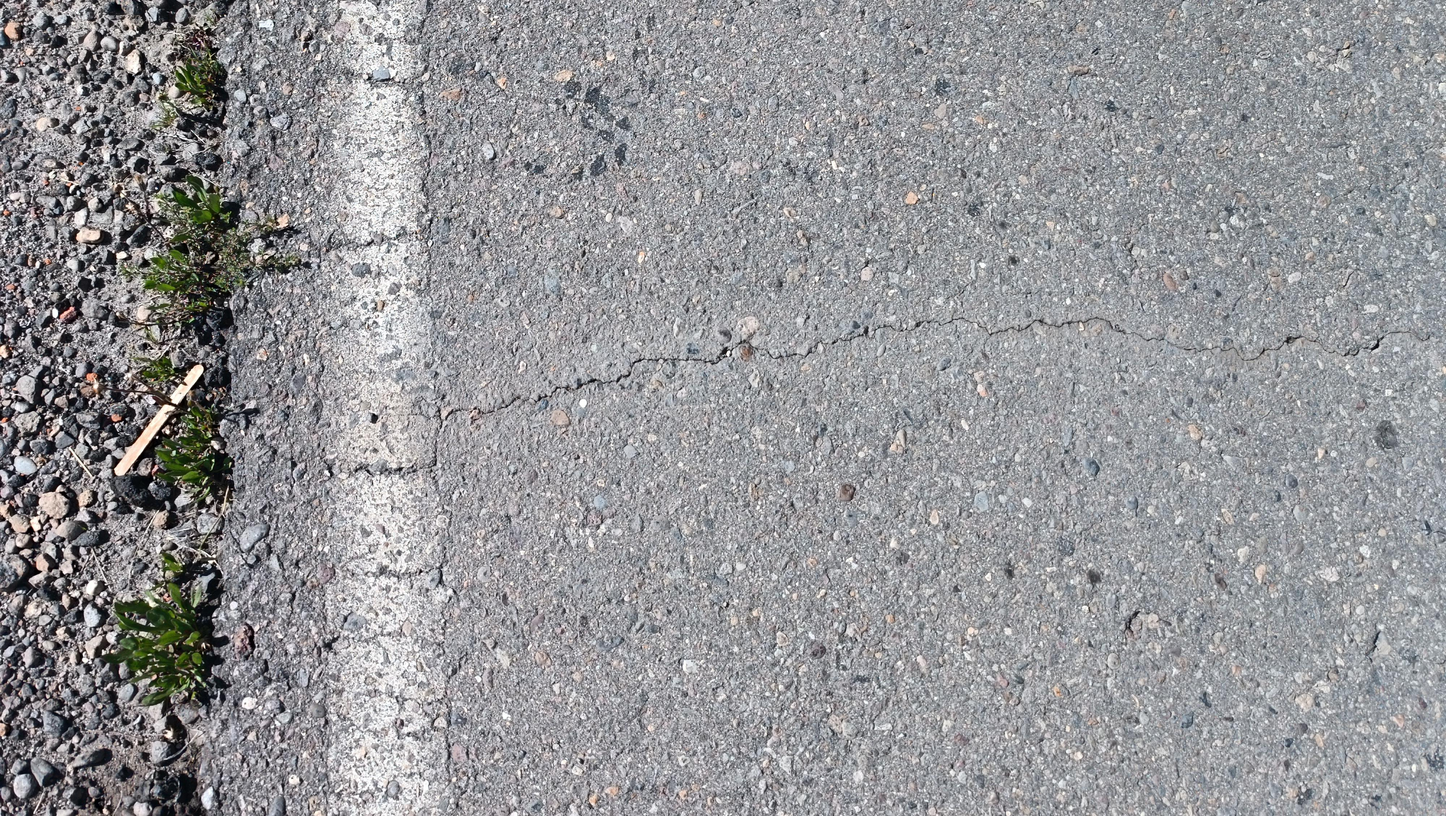GRIETA: (649, 315, 1433, 367), (393, 358, 649, 480)
